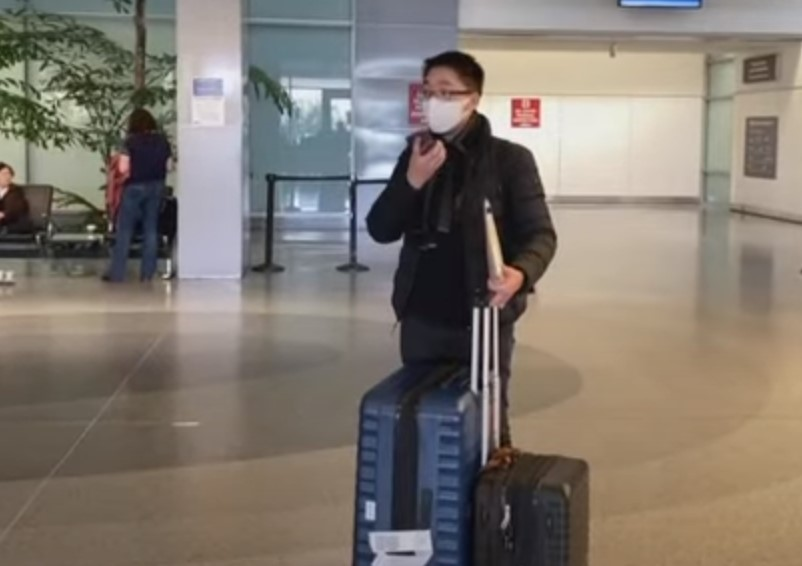face_with_mask: (414, 46, 487, 137)
